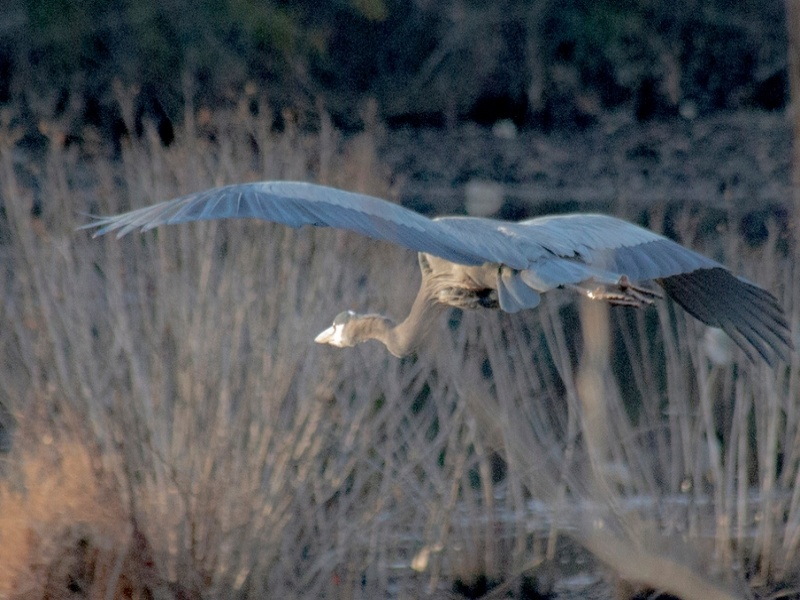heron: (73, 174, 793, 380)
